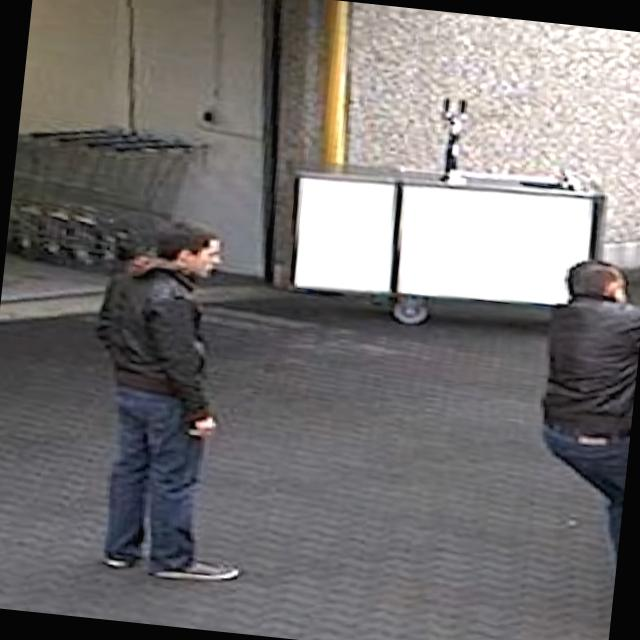person: (68, 216, 273, 584), (517, 257, 640, 567)
